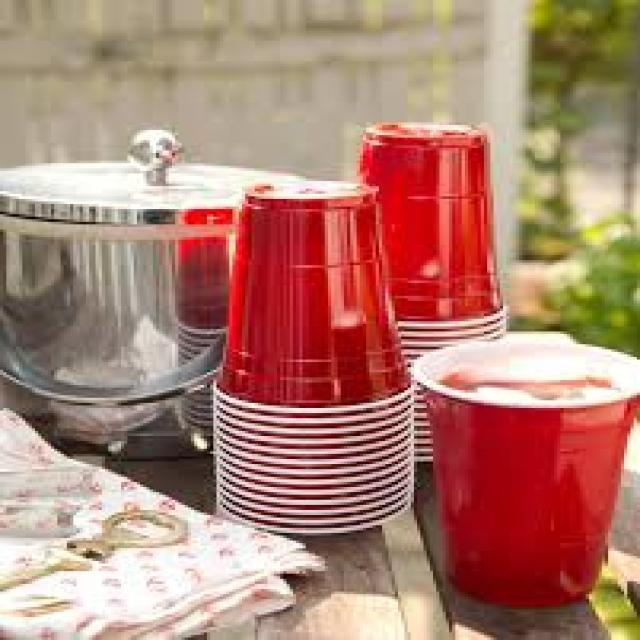cup: (427, 332, 640, 618), (215, 176, 408, 418), (342, 118, 518, 326)
